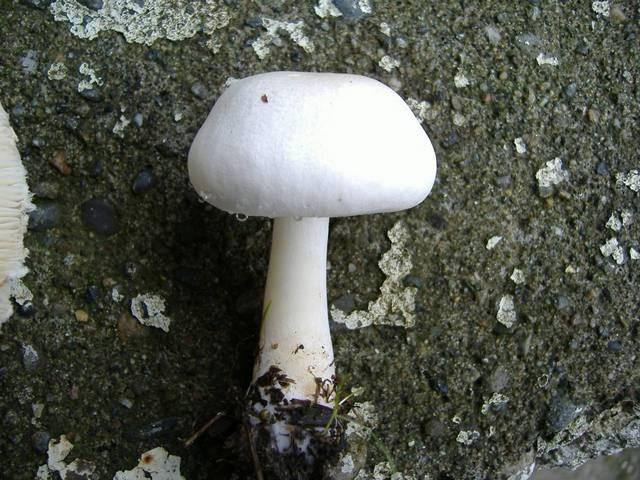Non-edible Mushroom: (185, 68, 438, 475)
